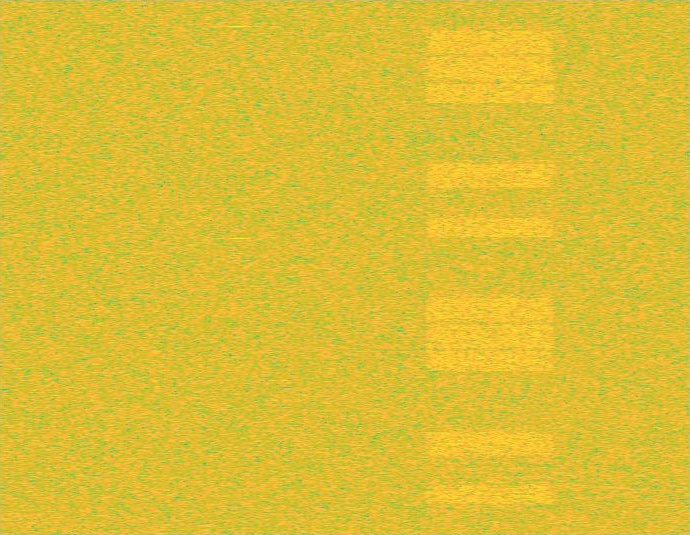LTE: (421, 0, 559, 534)
Radar: (233, 0, 246, 534)
